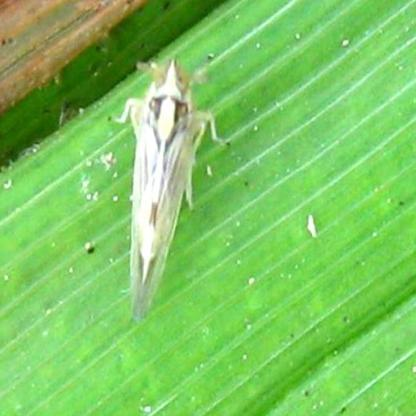brown-planthopper: (110, 55, 223, 322)
